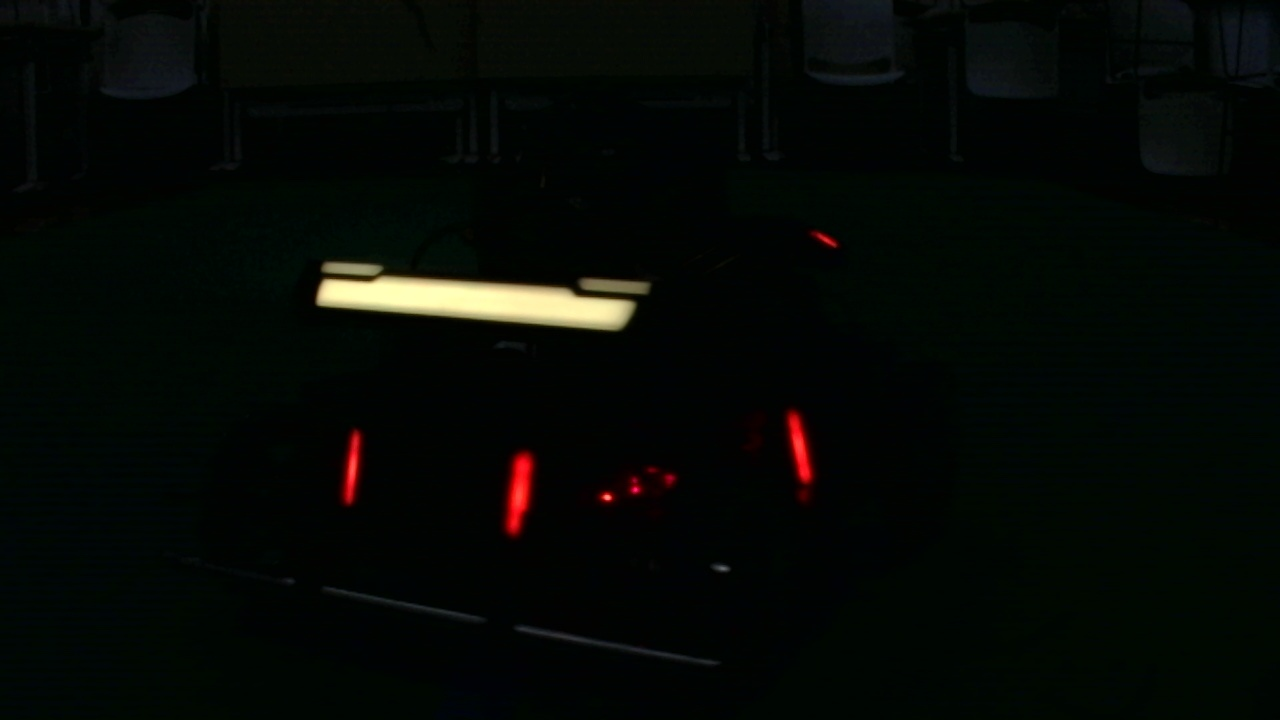lamp: (501, 445, 537, 538), (783, 398, 818, 490), (340, 425, 363, 506)
notpair1: (502, 401, 818, 538)
pair1: (337, 435, 537, 536)
